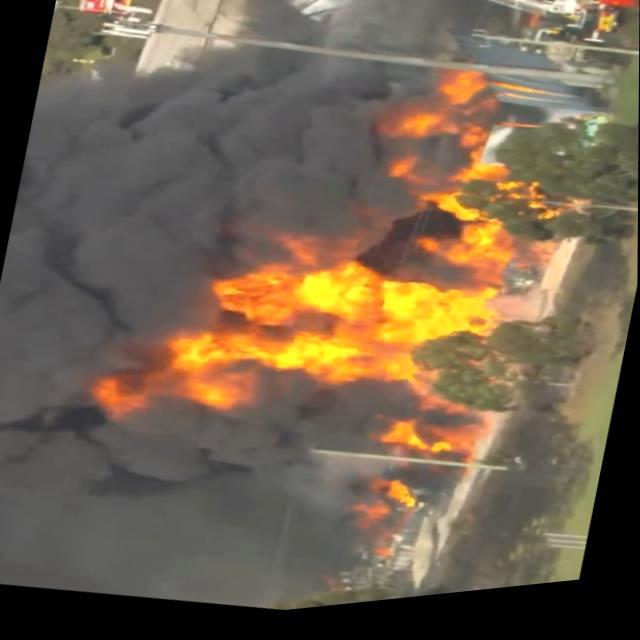fire: (109, 26, 607, 610)
